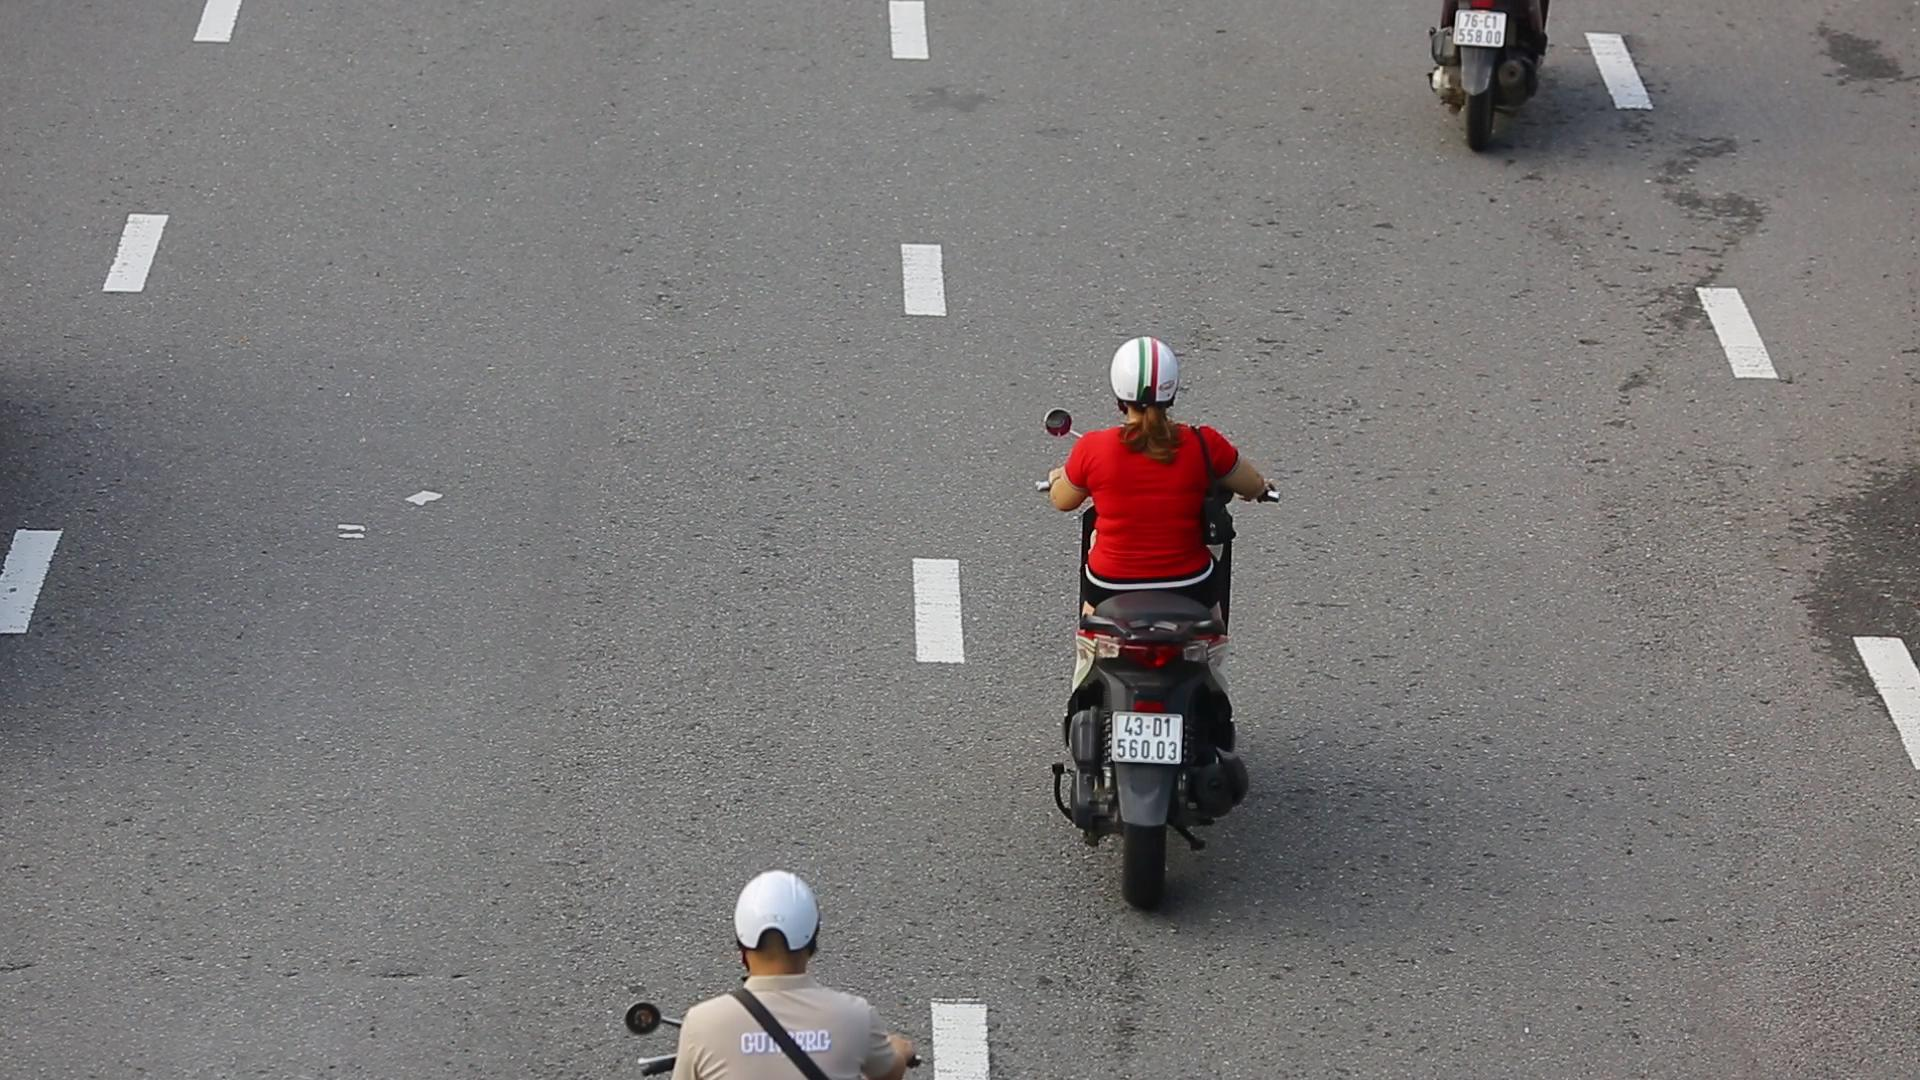motobike: (1029, 331, 1284, 909)
